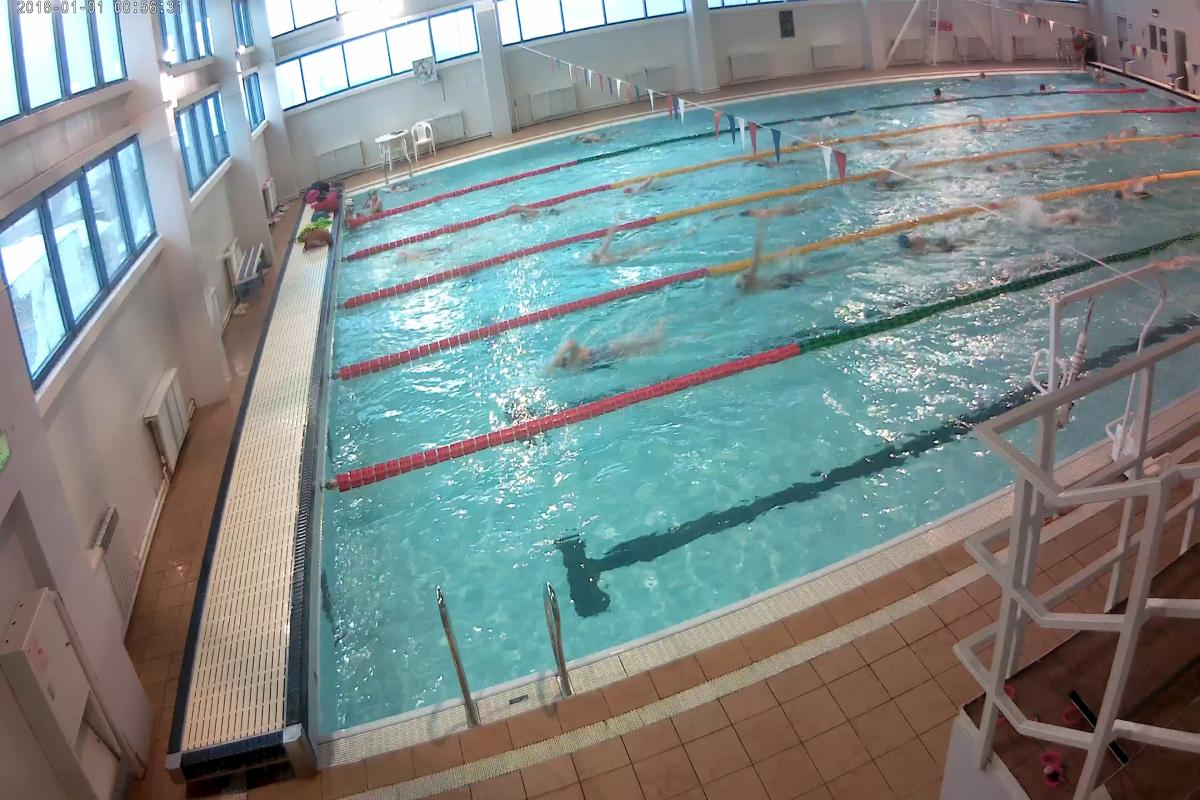swimmer: (536, 323, 673, 383), (726, 255, 834, 314), (565, 226, 691, 270), (885, 224, 1014, 256), (729, 192, 818, 226), (866, 157, 917, 193), (620, 169, 678, 197), (1103, 181, 1162, 208), (746, 153, 801, 176)
